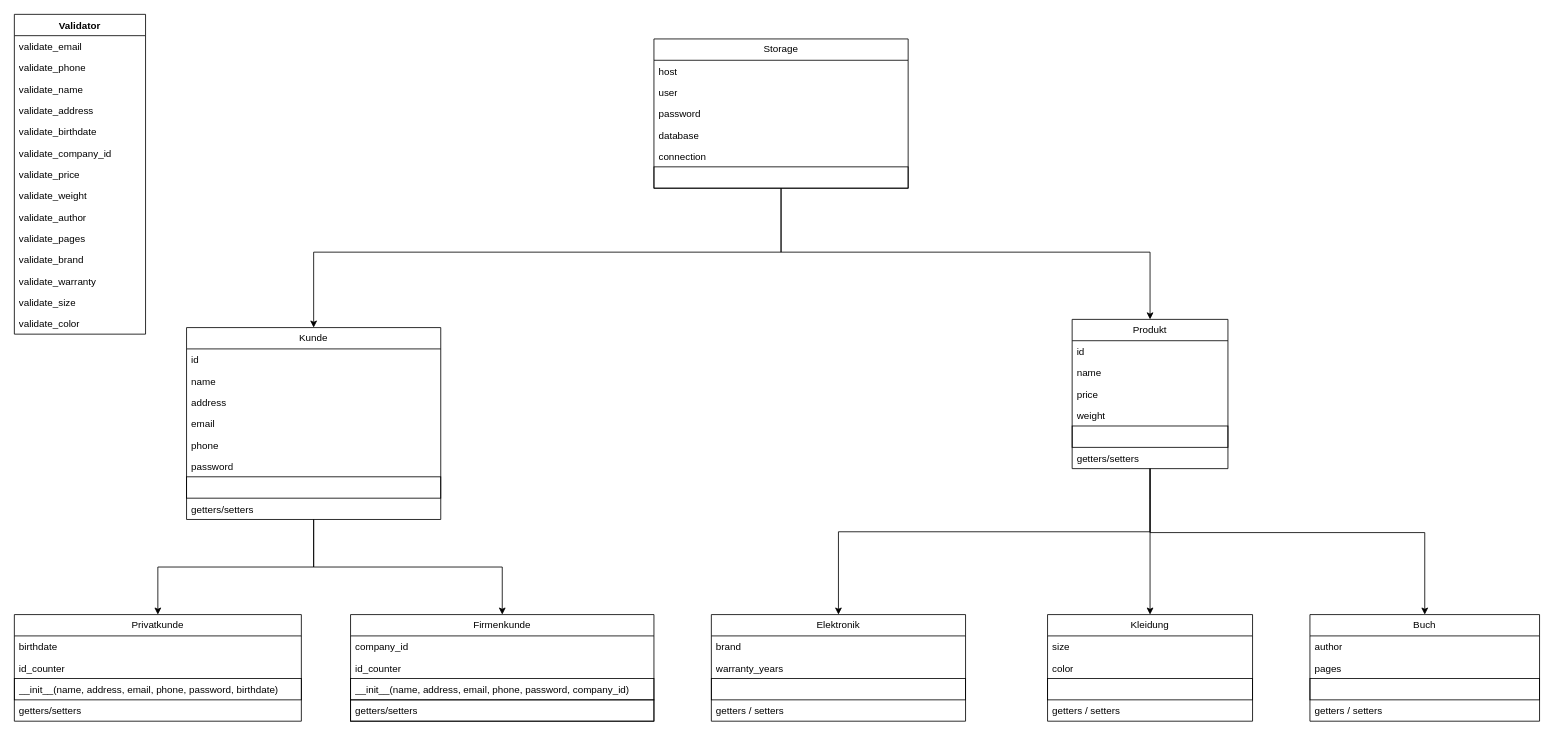
Image size: 1554x738. Some labels were removed from this diagram. The shapes that lost their labels are listed below. From the top down, each one's centre as x and y in pixels, then its label:
At point (780, 177): "connect/disconnect/saves/loads".
At point (1149, 436): "__init__(id, name, price, weight)".
At point (313, 487): "__init__(id, name, address, email, phone, password)".
At point (838, 689): "__init__(name, price, weight, brand, warranty_years)".
At point (1150, 689): "__init__(name, price, weight, size, color)".
At point (1424, 689): "__init__(name, price, weight, author, pages)".
